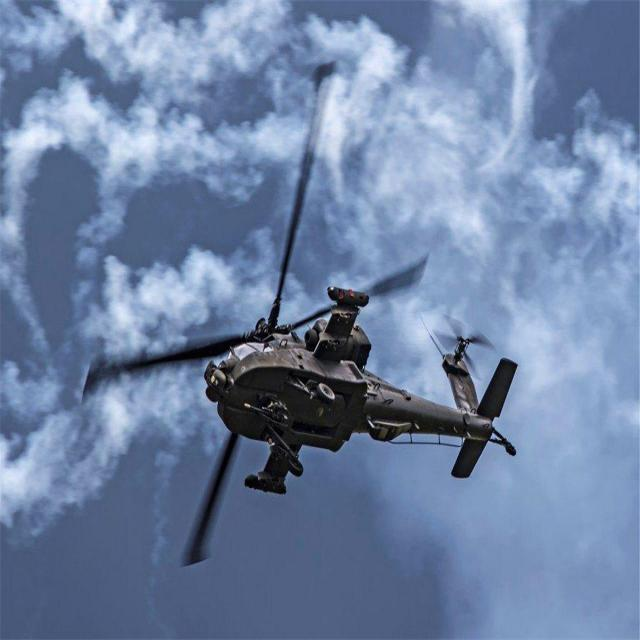MIL_HELO: (78, 58, 539, 590)
